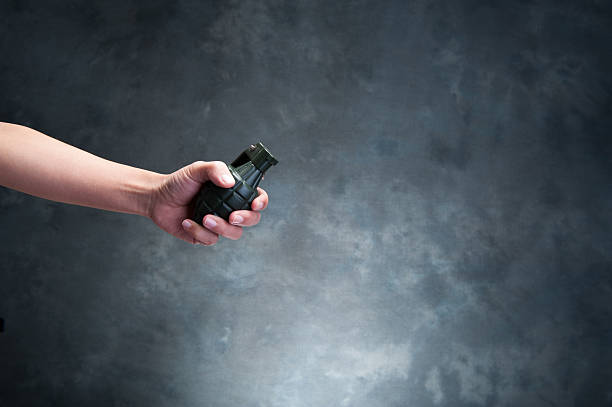e1: (184, 141, 278, 226)
